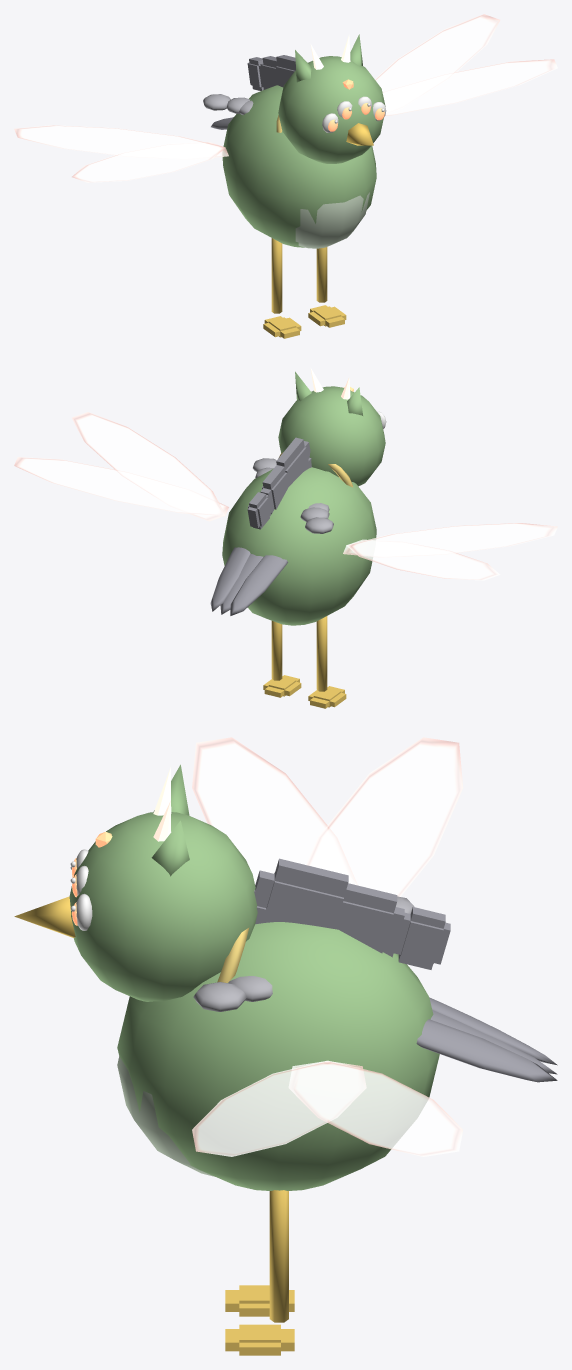
The model's file is guardian_forest.glb.
The picture shows the model from 3 angles, top to bottom: view 1: azimuth 30°, elevation 25°; view 2: azimuth 150°, elevation 25°; view 3: azimuth 270°, elevation 25°; orthographic projection. The views are drawn at different scales.
Parts seen in each view (by area): view 1: ball; view 2: ball; view 3: ball.
Part boxes in pixels (<box>): ball: <box>14,14,557,338</box>; ball: <box>14,368,557,708</box>; ball: <box>14,737,557,1355</box>.
Bounding box in the file's own units: 2.57 × 1.56 × 1.41.
